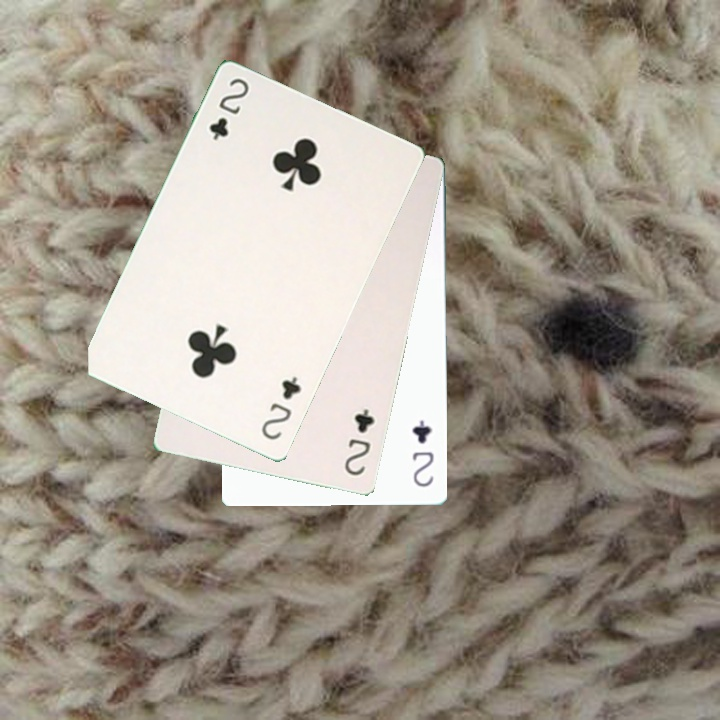2c: (257, 372, 304, 443), (205, 73, 252, 143), (340, 404, 378, 478), (408, 416, 436, 489)
